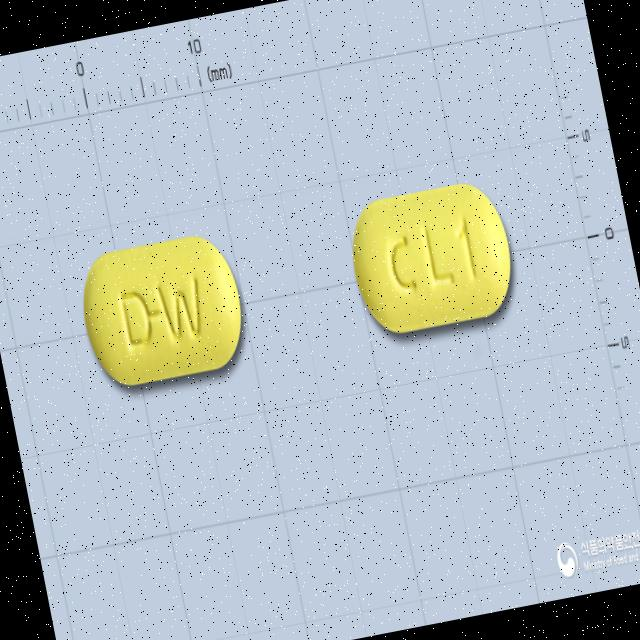Clearmycin: (340, 175, 522, 342), (72, 231, 252, 394)
